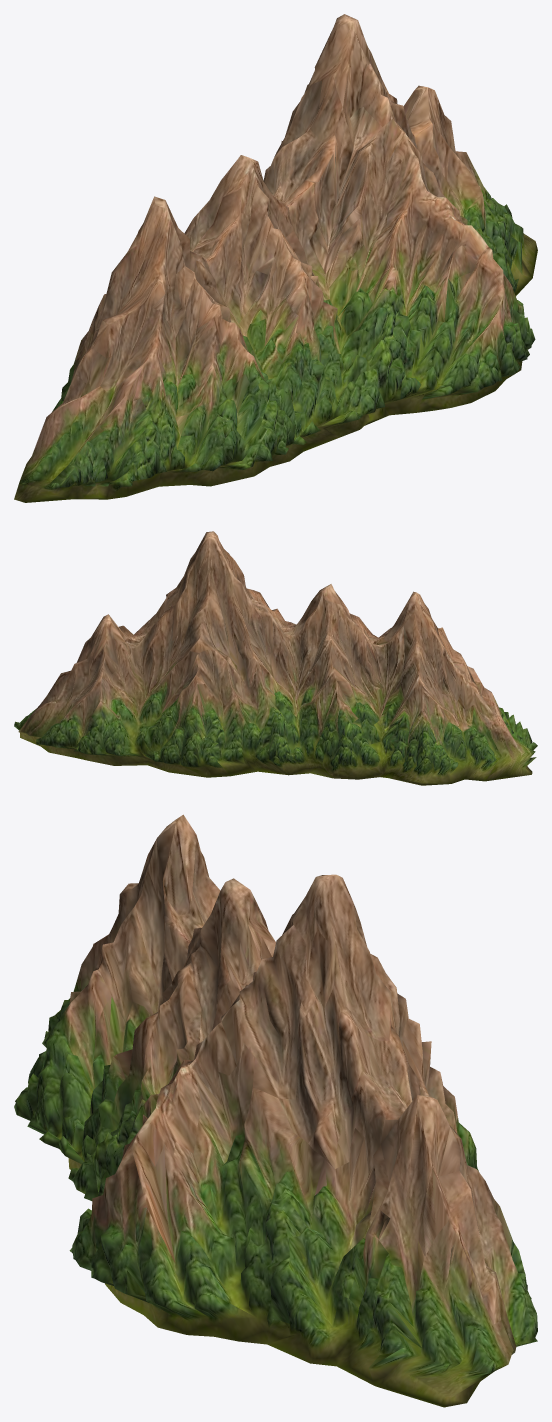
Rendered from range-b.glb.
3 renders of one model, top to bottom at view 1: azimuth 30°, elevation 25°; view 2: azimuth 150°, elevation 25°; view 3: azimuth 270°, elevation 25°, orthographic. The views are drawn at different scales.
Visible parts, largest first — view 1: range-b; view 2: range-b; view 3: range-b.
Part boxes in pixels (box(x1,y1,x2,y2)): range-b: box(14, 14, 537, 502); range-b: box(14, 531, 537, 785); range-b: box(14, 814, 537, 1407).
Size of the model in its own units: 1.9 by 0.9158 by 1.11.
Materials: 1 (1 with a texture image).
